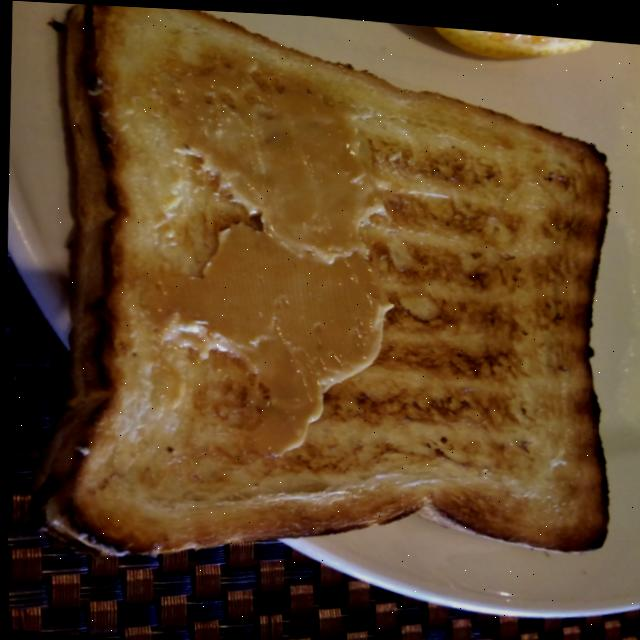面包点心: (45, 2, 635, 585)
